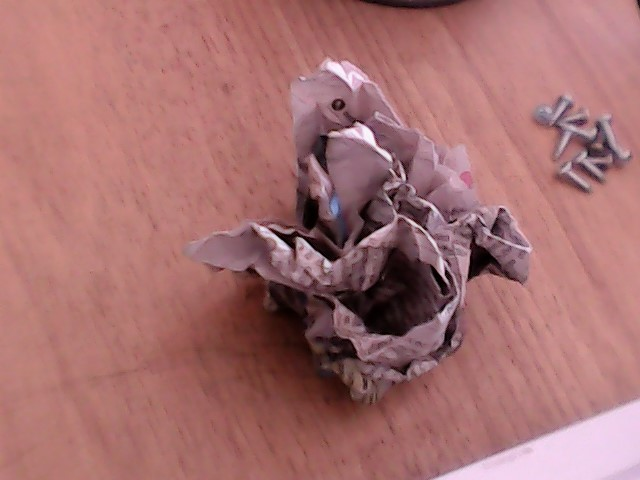Metal: (542, 85, 622, 193)
paper: (239, 77, 527, 395)
